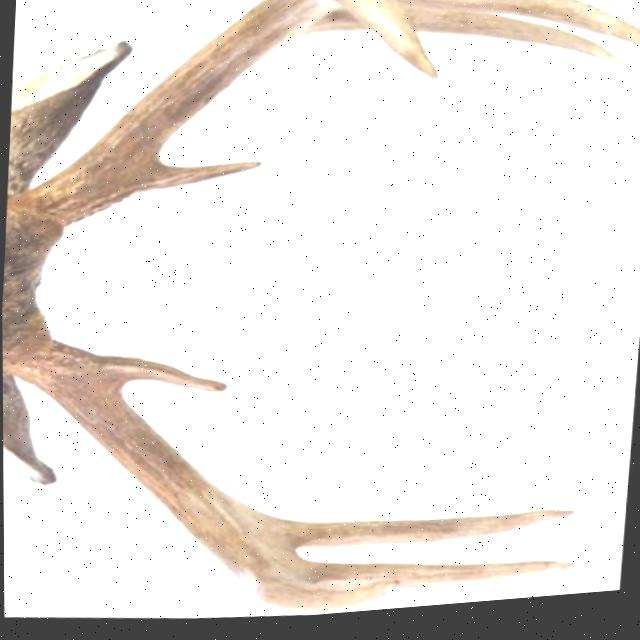L-F: (2, 337, 398, 617)
L-G1: (99, 356, 229, 395)
L-G2: (282, 517, 578, 553)
R-F: (7, 0, 439, 224)
R-G1: (143, 163, 263, 193)
